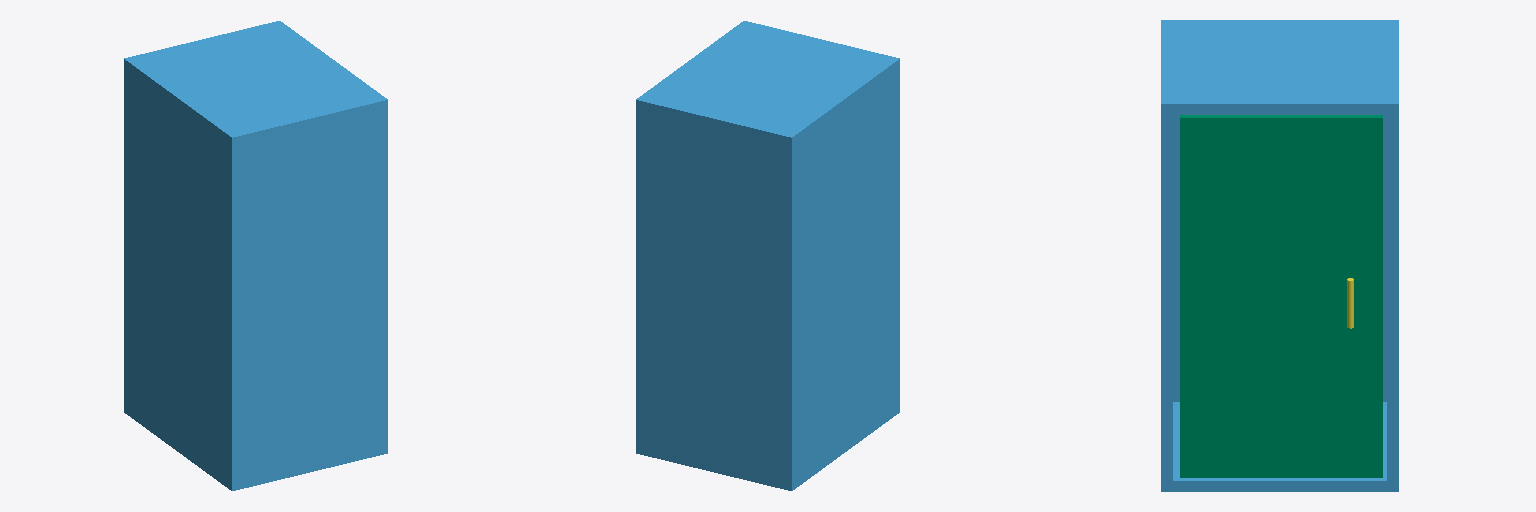
robot.urdf — my_cabinet:
<?xml version="1.0" ?>
<robot name="my_cabinet">
	<link name="world"/>
	<joint name="virtual_joint" type="fixed">
		<parent link="world"/>
		<child link="base_cabinet_link"/>
		<origin xyz="0.0 0.0 0.0" rpy="0.0 0.0 0.0"/>
	</joint>
	<link name="base_cabinet_link">
		<visual>
			<origin xyz="0.0 -0.0025 -0.3157305564373567" rpy="0.0 0.0 0.0"/>
			<geometry>
				<box size="0.3 0.3603591574927673 0.018"/>
			</geometry>
		</visual>
		<collision name="base_cabinet_link_collision_0">
			<origin xyz="0.0 -0.0025 -0.3157305564373567" rpy="0.0 0.0 0.0"/>
			<geometry>
				<box size="0.3 0.3603591574927673 0.018"/>
			</geometry>
		</collision>
		<visual>
			<origin xyz="0.0 0.16867957874638367 0.0" rpy="0.0 0.0 0.0"/>
			<geometry>
				<box size="0.3 0.018 0.6494611128747134"/>
			</geometry>
		</visual>
		<collision name="base_cabinet_link_collision_1">
			<origin xyz="0.0 0.16867957874638367 0.0" rpy="0.0 0.0 0.0"/>
			<geometry>
				<box size="0.3 0.018 0.6494611128747134"/>
			</geometry>
		</collision>
		<visual>
			<origin xyz="0.0 -0.17367957874638368 0.0" rpy="0.0 0.0 0.0"/>
			<geometry>
				<box size="0.3 0.018 0.6494611128747134"/>
			</geometry>
		</visual>
		<collision name="base_cabinet_link_collision_2">
			<origin xyz="0.0 -0.17367957874638368 0.0" rpy="0.0 0.0 0.0"/>
			<geometry>
				<box size="0.3 0.018 0.6494611128747134"/>
			</geometry>
		</collision>
		<visual>
			<origin xyz="0.0 -0.0025 0.3157305564373567" rpy="0.0 0.0 0.0"/>
			<geometry>
				<box size="0.3 0.3603591574927673 0.018"/>
			</geometry>
		</visual>
		<collision name="base_cabinet_link_collision_3">
			<origin xyz="0.0 -0.0025 0.3157305564373567" rpy="0.0 0.0 0.0"/>
			<geometry>
				<box size="0.3 0.3603591574927673 0.018"/>
			</geometry>
		</collision>
		<visual>
			<origin xyz="-0.141 -0.0025 0.0" rpy="0.0 0.0 0.0"/>
			<geometry>
				<box size="0.018 0.3603591574927673 0.6494611128747134"/>
			</geometry>
		</visual>
		<collision name="base_cabinet_link_collision_4">
			<origin xyz="-0.141 -0.0025 0.0" rpy="0.0 0.0 0.0"/>
			<geometry>
				<box size="0.018 0.3603591574927673 0.6494611128747134"/>
			</geometry>
		</collision>
		<inertial>
			<mass value="0.200000"/>
			<inertia ixx="0.009194" ixy="0.0" ixz="0.0" iyy="0.008530" iyz="0.0" izz="0.003664"/>
		</inertial>
	</link>
	<link name="door_link">
		<visual>
			<origin xyz="0.0 -0.15467957874638366 0.0"/>
			<geometry>
				<box size="0.018 0.3093591574927673 0.6034611128747134"/>
			</geometry>
		</visual>
		<collision name="door_link_collision">
			<origin xyz="0.0 -0.15467957874638366 0.0"/>
			<geometry>
				<box size="0.018 0.3093591574927673 0.6034611128747134"/>
			</geometry>
		</collision>
		<inertial>
			<mass value="0.200000"/>
			<inertia ixx="0.007664" ixy="0.0" ixz="0.0" iyy="0.006075" iyz="0.0" izz="0.001600"/>
		</inertial>
	</link>
	<joint name="door_joint" type="revolute">
		<origin xyz="0.141 -0.15467957874638366 0.0" rpy="0.000000 -0.000000 3.141593"/>
		<axis xyz="0 0 1"/>
		<parent link="base_cabinet_link"/>
		<child link="door_link"/>
		<limit effort="50" lower="-1.658062789394613" upper="0" velocity="10"/>
		<dynamics friction="3.5" damping="3.5"/>
	</joint>
	<link name="handle_link">
		<visual>
			<origin xyz="0.0 0.0 0.0" rpy="0.0 0.0 0.0"/>
			<geometry>
				<cylinder length="0.08" radius="0.005"/>
			</geometry>
		</visual>
		<collision name="handle_link_collision_0">
			<origin xyz="0.0 0.0 0.0" rpy="0.0 0.0 0.0"/>
			<geometry>
				<cylinder length="0.08" radius="0.005"/>
			</geometry>
		</collision>
		<visual>
			<origin xyz="-0.01 0.0 0.02" rpy="0.0 1.5707963267948966 0.0"/>
			<geometry>
				<cylinder length="0.02" radius="0.003"/>
			</geometry>
		</visual>
		<collision name="handle_link_collision_1">
			<origin xyz="-0.01 0.0 0.02" rpy="0.0 1.5707963267948966 0.0"/>
			<geometry>
				<cylinder length="0.01" radius="0.003"/>
			</geometry>
		</collision>
		<visual>
			<origin xyz="-0.01 0.0 -0.02" rpy="0.0 1.5707963267948966 0.0"/>
			<geometry>
				<cylinder length="0.02" radius="0.003"/>
			</geometry>
		</visual>
		<collision name="handle_link_collision_2">
			<origin xyz="-0.01 0.0 -0.02" rpy="0.0 1.5707963267948966 0.0"/>
			<geometry>
				<cylinder length="0.02" radius="0.003"/>
			</geometry>
		</collision>
		<inertial>
			<mass value="0.050000"/>
			<inertia ixx="0.000027" ixy="0.0" ixz="0.0" iyy="0.000029" iyz="0.0" izz="0.000003"/>
		</inertial>
	</link>
	<joint name="handle_joint" type="fixed">
		<origin xyz="-0.028999999999999998 -0.25935915749276733 0.0" rpy="0.000000 -0.000000 3.141593"/>
		<parent link="door_link"/>
		<child link="handle_link"/>
	</joint>
	<gazebo reference="base_cabinet_link">
		<sensor name="main_sensor" type="contact">
			<selfCollide>true</selfCollide>
			<alwaysOn>true</alwaysOn>
			<updateRate>5.0</updateRate>
			<material>Gazebo/Red</material>
			<contact>
				<collision>base_cabinet_link_collision_0_collision</collision>
				<collision>base_cabinet_link_collision_1_collision</collision>
				<collision>base_cabinet_link_collision_2_collision</collision>
				<collision>base_cabinet_link_collision_3_collision</collision>
				<collision>base_cabinet_link_collision_4_collision</collision>
			</contact>
			<plugin name="gazebo_ros_bumper_controller" filename="libgazebo_ros_bumper.so">
				<bumperTopicName>/contact</bumperTopicName>
				<frameName>world</frameName>
			</plugin>
		</sensor>
	</gazebo>
	<gazebo reference="door_link">
		<sensor name="main_sensor" type="contact">
			<selfCollide>true</selfCollide>
			<alwaysOn>true</alwaysOn>
			<updateRate>5.0</updateRate>
			<material>Gazebo/Red</material>
			<contact>
				<collision>door_link_collision_collision</collision>
			</contact>
			<plugin name="gazebo_ros_bumper_controller" filename="libgazebo_ros_bumper.so">
				<bumperTopicName>/contact_door</bumperTopicName>
				<frameName>contact_door</frameName>
			</plugin>
		</sensor>
	</gazebo>
	<gazebo reference="door_link">
		<mu>3.0</mu>
		<mu2>3.0</mu2>
		<kp>10000000</kp>
		<kd>100</kd>
	</gazebo>
</robot>

--- Render facts (derived) ---
The picture shows the robot from 3 angles, left to right: view 1: azimuth 30°, elevation 25°; view 2: azimuth 150°, elevation 25°; view 3: azimuth 270°, elevation 25°; orthographic projection.
Robot: my_cabinet — 4 links, 3 joints (1 revolute, 2 fixed); root link world; default pose: all joints at 0.
Links seen in each view (by area): view 1: base_cabinet_link; view 2: base_cabinet_link; view 3: door_link, base_cabinet_link.
Boxes of the visible links, left/top/right/bottom form: base_cabinet_link: left=124, top=21, right=387, bottom=490; base_cabinet_link: left=636, top=21, right=899, bottom=490; door_link: left=1180, top=115, right=1382, bottom=477; base_cabinet_link: left=1161, top=20, right=1398, bottom=491.
Bounding box of the posed robot: 0.325 × 0.3604 × 0.6495 m (x, y, z).
Geometry: primitives only (box / cylinder / sphere), no mesh files.
